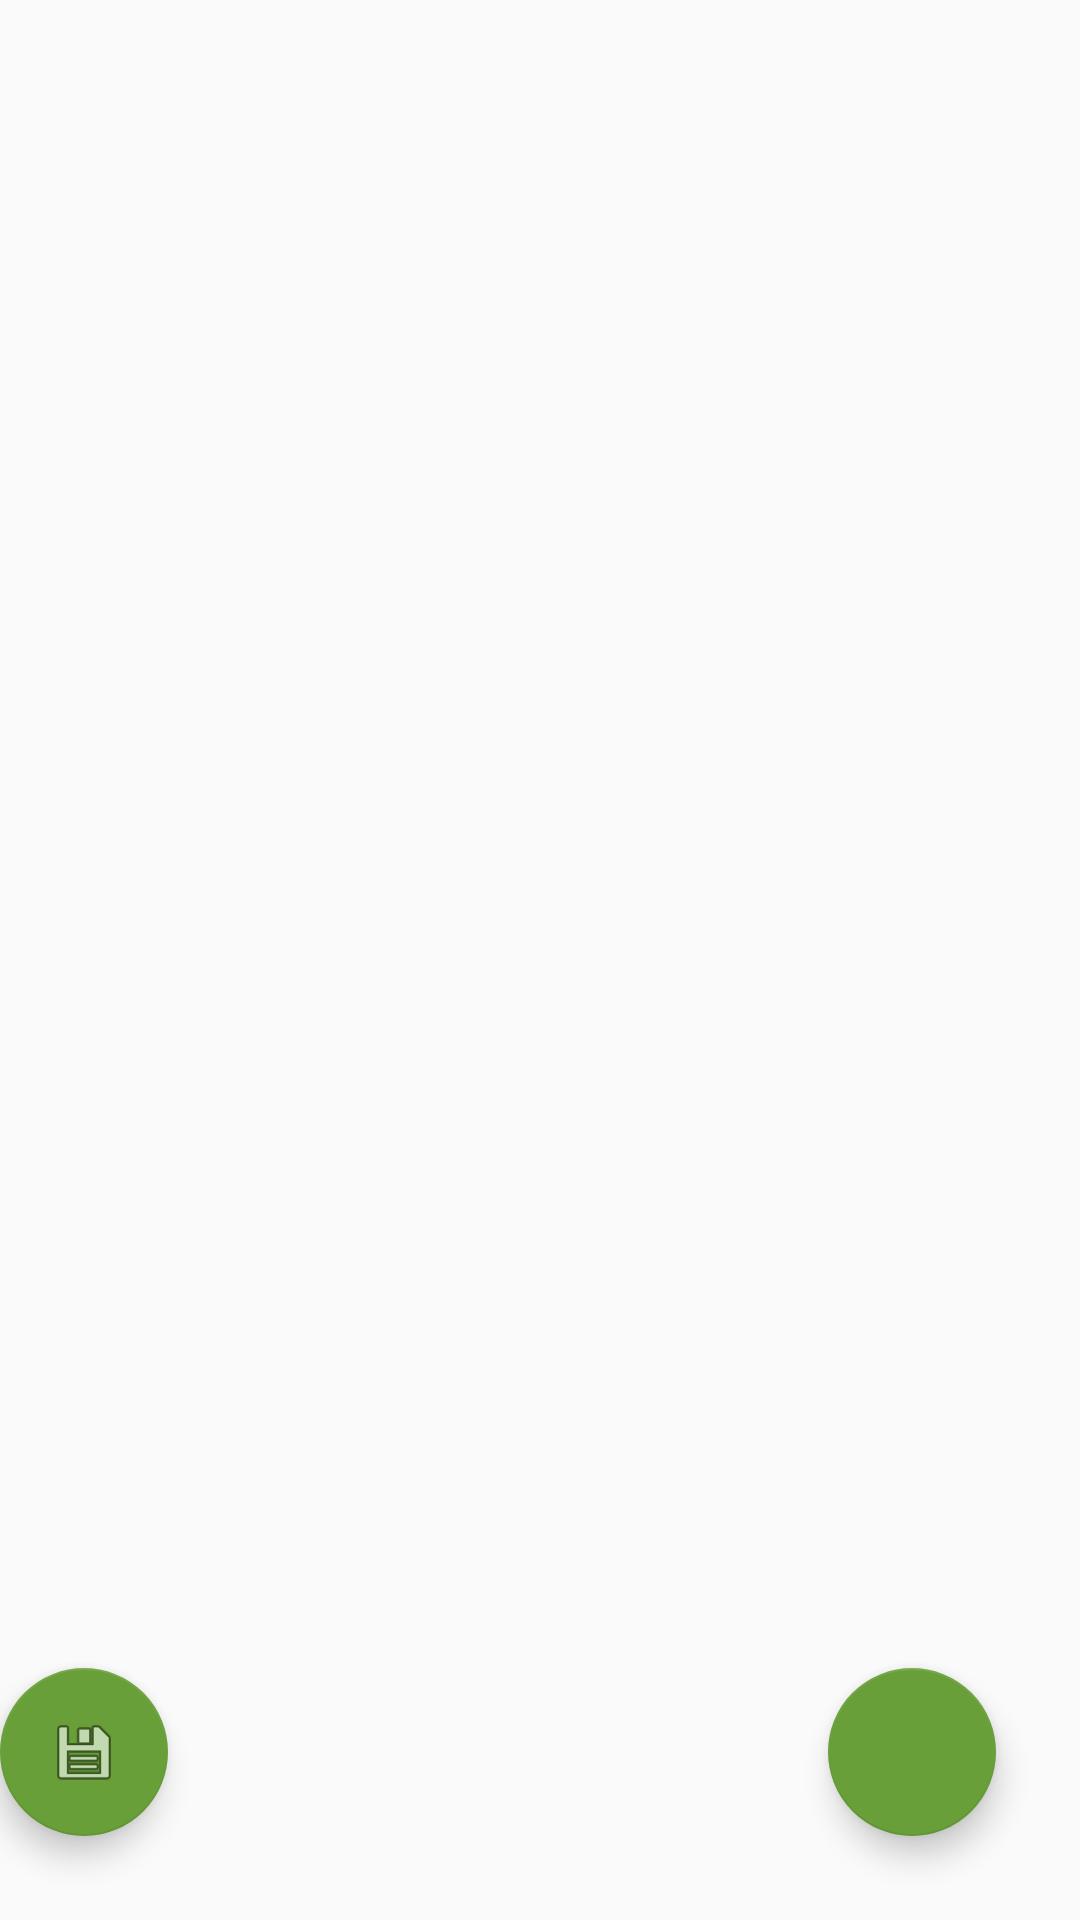

Where icons sit on this 1080w x 1920h app screen, as (x1, y1, x2, y2):
save: (0, 1668, 168, 1836)
